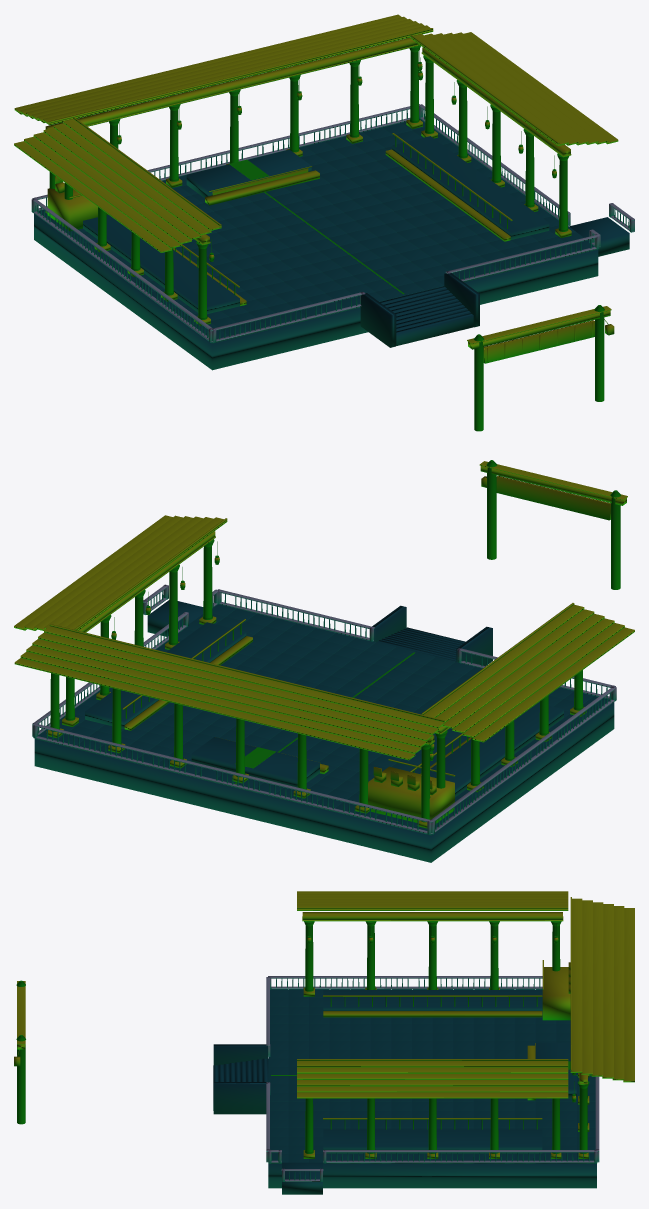
The model's file is ansedra_court.glb.
3 views of the same model, one above another, from view 1: azimuth 30°, elevation 25°; view 2: azimuth 150°, elevation 25°; view 3: azimuth 270°, elevation 25° (orthographic). The views are drawn at different scales.
Parts seen in each view (by area): view 1: ansedra_court; view 2: ansedra_court; view 3: ansedra_court.
Boxes of the visible parts, x1=… form: ansedra_court: x1=14, y1=14, x2=634, y2=431; ansedra_court: x1=14, y1=460, x2=634, y2=862; ansedra_court: x1=14, y1=891, x2=634, y2=1194.
Size of what is drawn, in the model's own units: 36.14 by 9.49 by 45.27.
